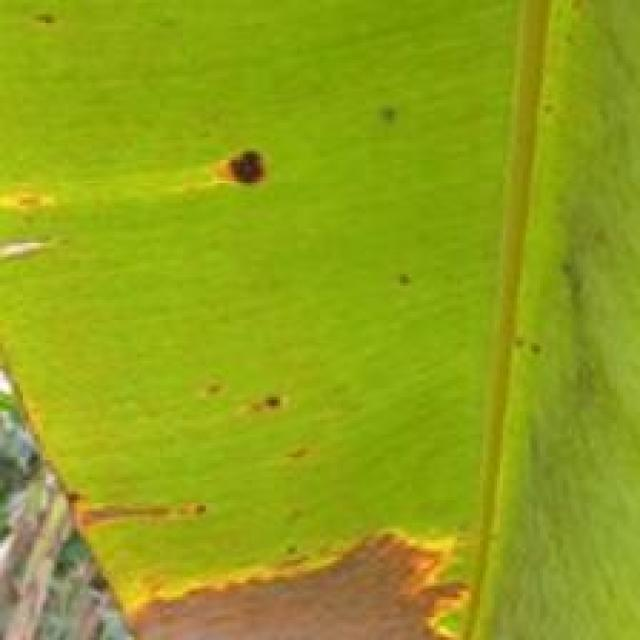Bacterial_spot: (134, 513, 500, 640), (201, 368, 320, 485), (0, 186, 88, 273), (191, 125, 277, 214), (58, 493, 217, 537), (25, 1, 82, 35)
